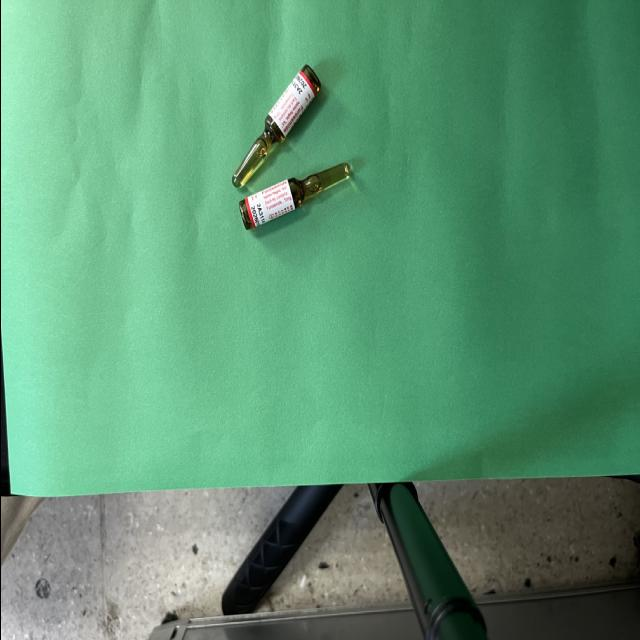Ampoules: (231, 66, 319, 188), (238, 163, 349, 229)
